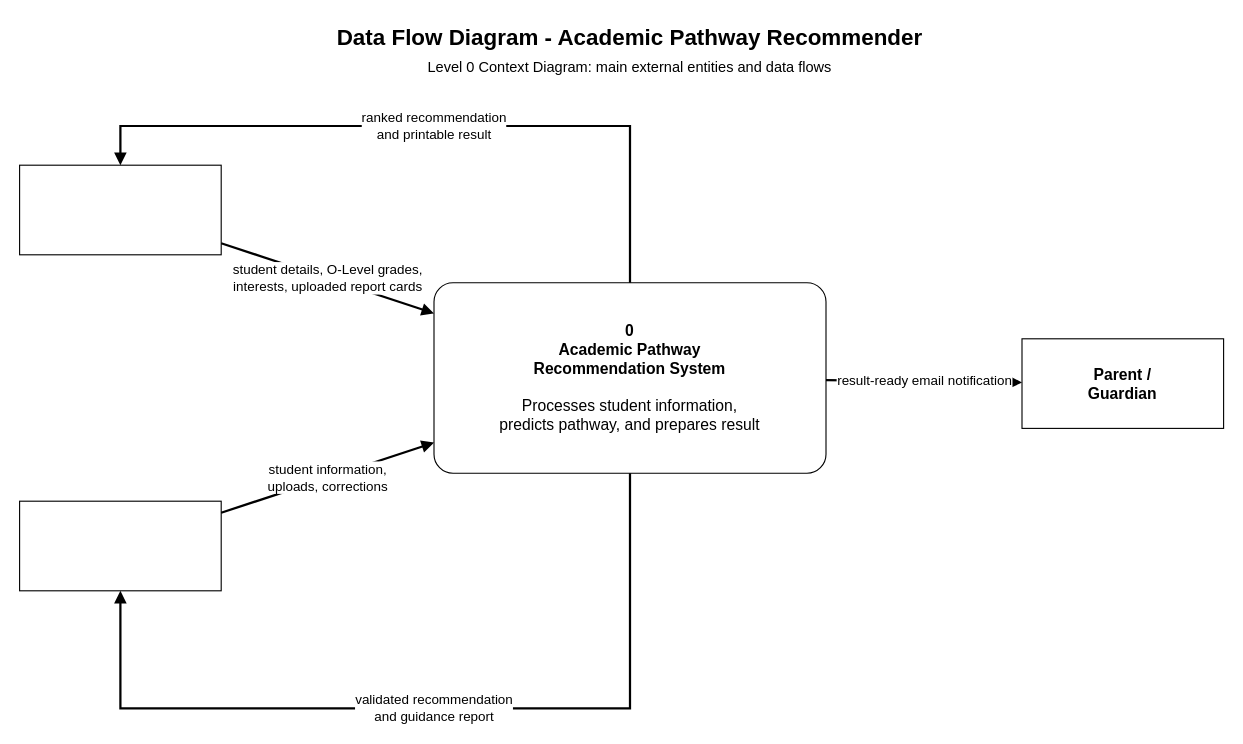
This 1243x744 diagram has some shape labels left out. The box of each missing label's shape, as (x1, y1, x2, y2) in pixels:
Student: (18, 164, 221, 255)
Teacher / Guidance Staff: (18, 500, 221, 591)
